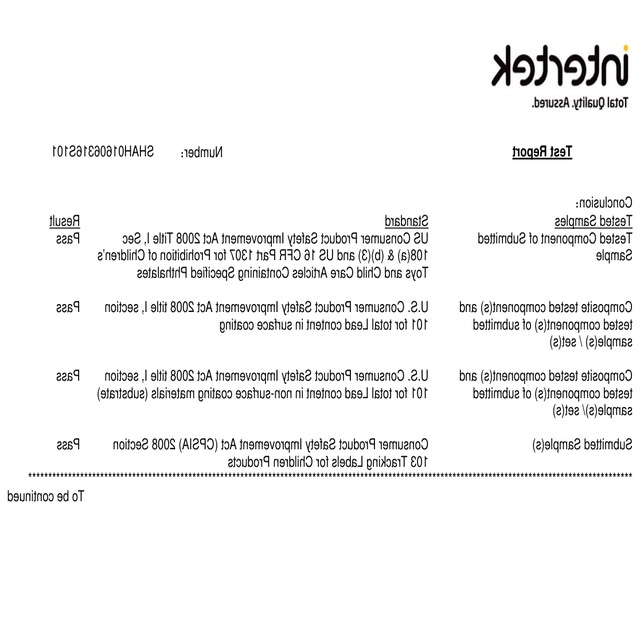intertek: (487, 42, 634, 94)
